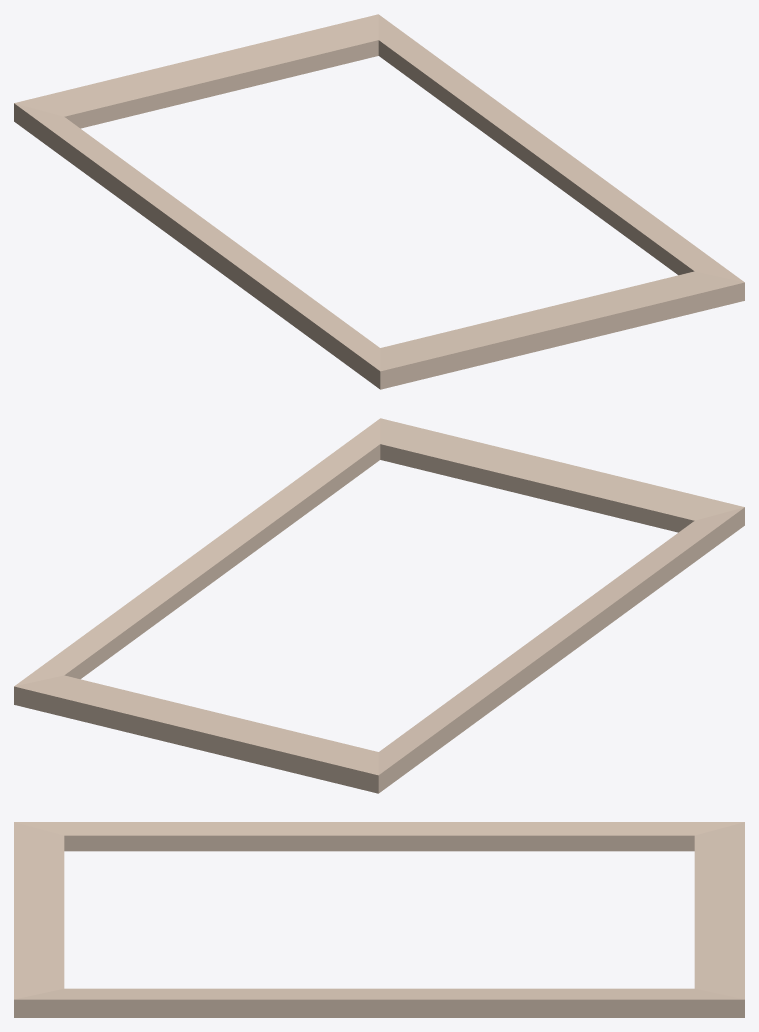
Rendered from cupboard_door_right.dae.
3 renders of one model, top to bottom at view 1: azimuth 30°, elevation 25°; view 2: azimuth 150°, elevation 25°; view 3: azimuth 270°, elevation 25°, orthographic.
Parts seen in each view (by area): view 1: cupboard_door_right; view 2: cupboard_door_right; view 3: cupboard_door_right.
Boxes of the visible parts, left/top/right/bottom form: cupboard_door_right: left=14, top=14, right=744, bottom=389; cupboard_door_right: left=14, top=418, right=744, bottom=793; cupboard_door_right: left=14, top=822, right=744, bottom=1017.
Bounding box in the file's own units: 0.59 × 1.03 × 0.0284.
